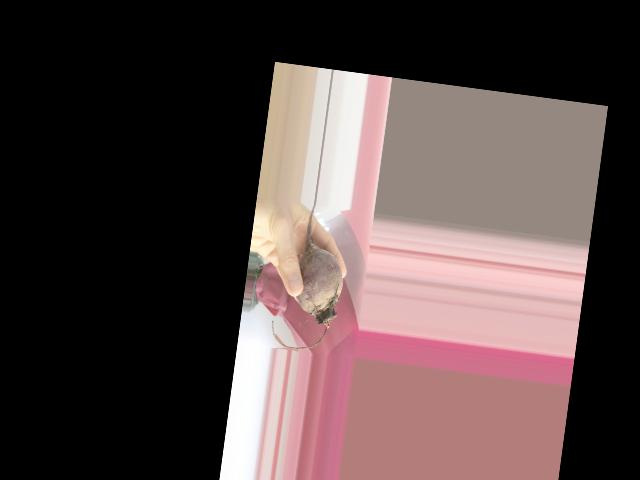beet: (268, 201, 352, 354)
